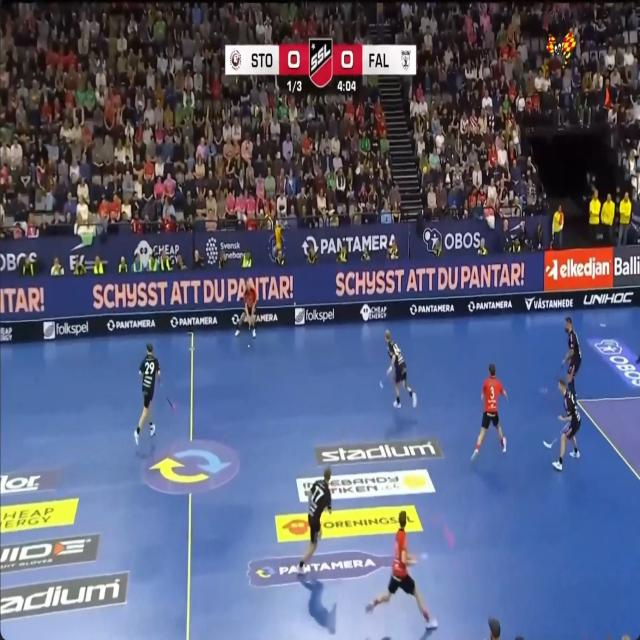player: (366, 510, 437, 629), (298, 467, 331, 572), (471, 363, 507, 459), (134, 343, 160, 444), (553, 378, 581, 471), (385, 331, 417, 407), (564, 317, 581, 395), (235, 279, 256, 337), (149, 419, 155, 436)
stick: (543, 437, 557, 448)
